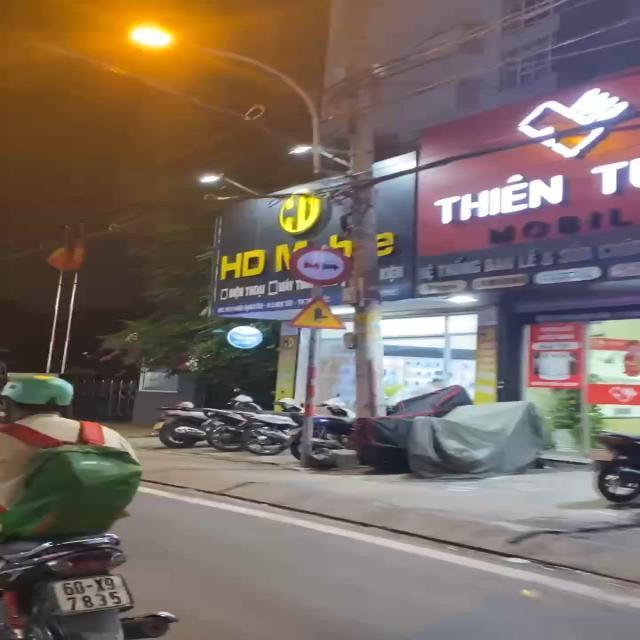125-cam-vuot: (291, 247, 354, 286)
207-giao-nhau-voi-duong-khong-uu-tien: (289, 297, 347, 331)
